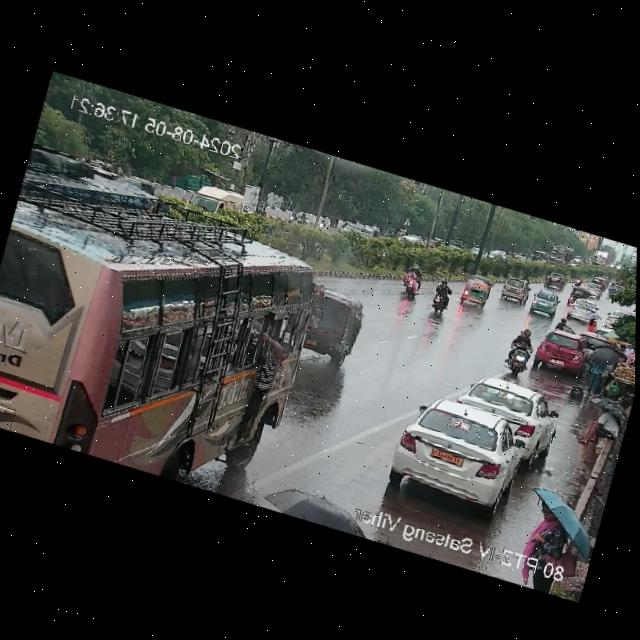bus: (0, 149, 332, 453)
car: (386, 387, 532, 518), (458, 371, 560, 454), (295, 284, 372, 369), (533, 328, 590, 377), (456, 269, 497, 309), (526, 285, 563, 324), (560, 295, 601, 328), (497, 273, 531, 305), (542, 268, 566, 291), (576, 278, 603, 298)
motorcycle: (499, 322, 535, 380), (426, 274, 455, 315), (396, 260, 426, 299)
person: (506, 482, 603, 567), (572, 396, 627, 455), (578, 336, 625, 401)
